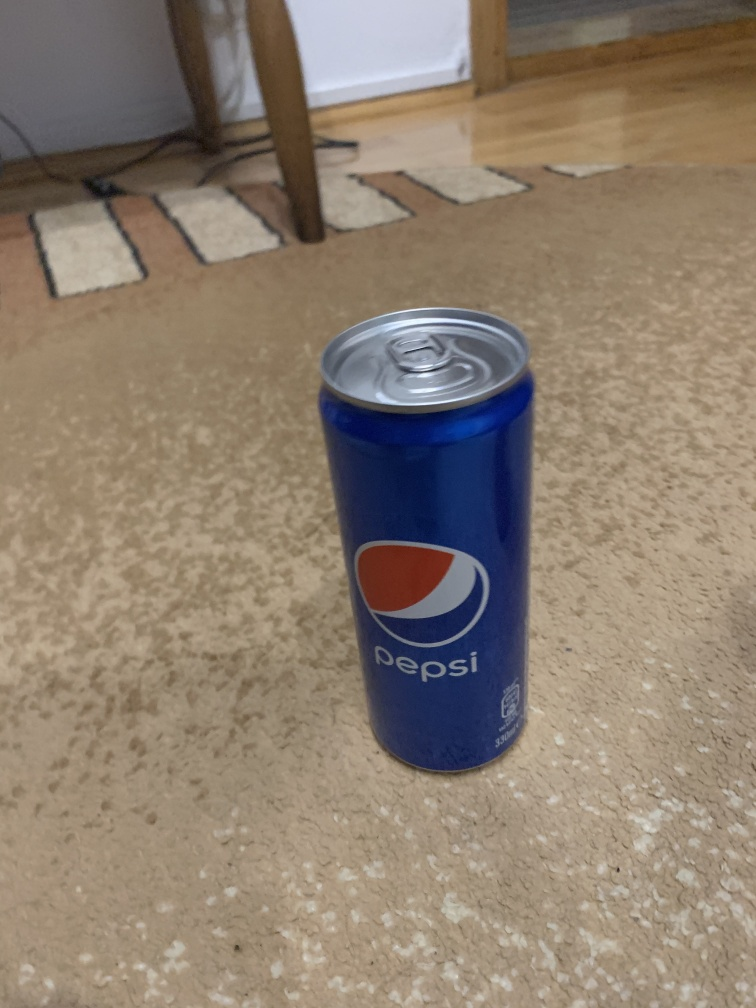pepsi: (309, 300, 556, 789)
